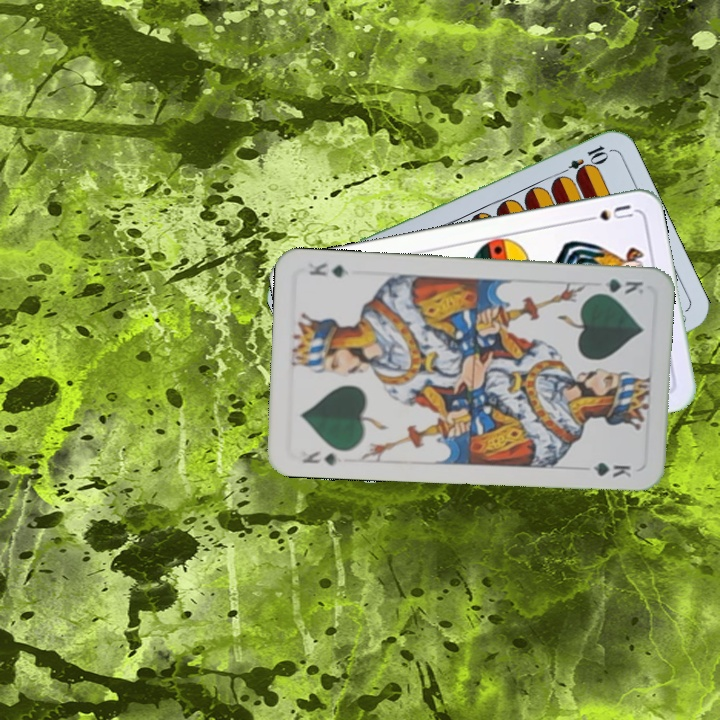E10: (554, 141, 611, 180)
GK: (589, 274, 646, 297), (299, 446, 339, 468)
SU: (578, 200, 637, 225)
